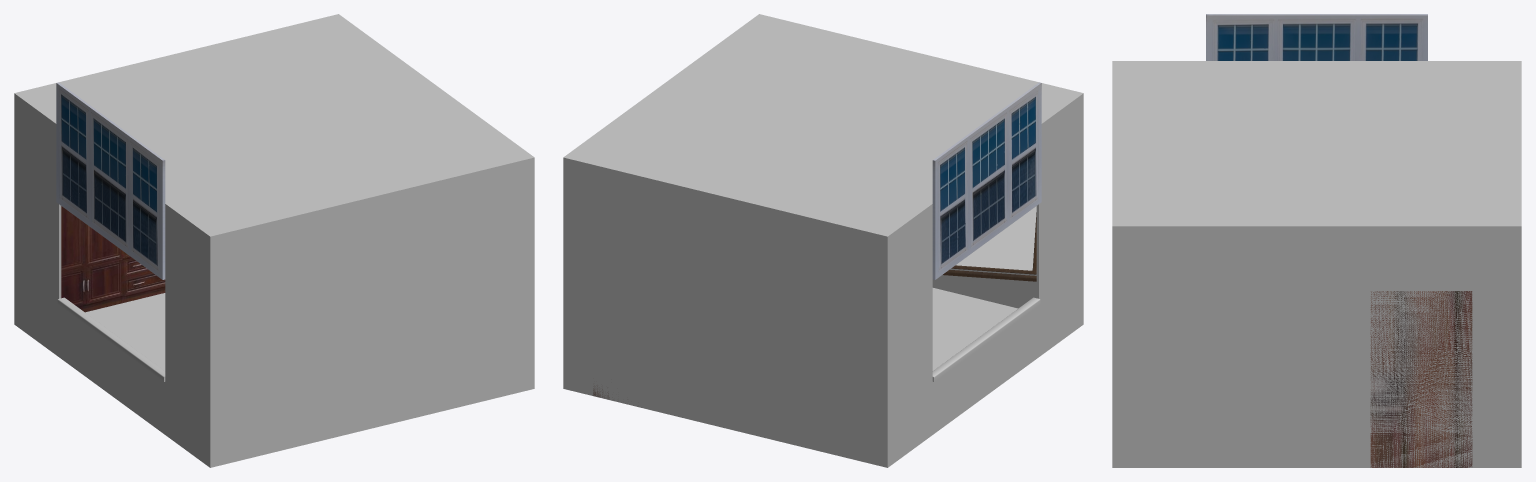
The model's file is Room.fbx.
3 renders of one model, left to right at view 1: azimuth 30°, elevation 25°; view 2: azimuth 150°, elevation 25°; view 3: azimuth 270°, elevation 25°, orthographic. The views are drawn at different scales.
Parts seen in each view (by area): view 1: Cube, Cube.003, Plane, Cube.007, Cube.001, Cube.004; view 2: Cube, Cube.003, Plane, Cube.001, defaultMaterial.036, Cube.004, defaultMaterial.032; view 3: Cube, Cube.003, Cube.002, Plane.
Part boxes in pixels (left/top/right/bottom): Cube: left=14, top=92, right=534, bottom=467; Cube.003: left=17, top=14, right=534, bottom=235; Plane: left=56, top=82, right=165, bottom=279; Cube.007: left=61, top=206, right=165, bottom=312; Cube.001: left=85, top=293, right=165, bottom=370; Cube.004: left=57, top=297, right=165, bottom=381; Cube: left=563, top=92, right=1083, bottom=467; Cube.003: left=563, top=14, right=1080, bottom=235; Plane: left=932, top=82, right=1041, bottom=279; Cube.001: left=932, top=288, right=1017, bottom=370; defaultMaterial.036: left=956, top=206, right=1036, bottom=270; Cube.004: left=932, top=297, right=1040, bottom=381; defaultMaterial.032: left=943, top=212, right=1036, bottom=281; Cube: left=1112, top=61, right=1521, bottom=467; Cube.003: left=1112, top=62, right=1521, bottom=226; Cube.002: left=1370, top=291, right=1472, bottom=467; Plane: left=1206, top=14, right=1427, bottom=60.
Bounding box in the file's own units: 444 × 357 × 461.
